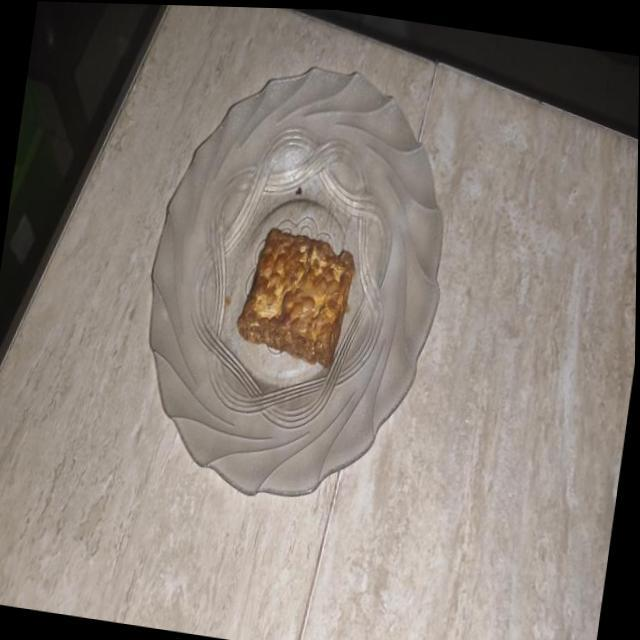tempe_goreng: (237, 228, 354, 366)
